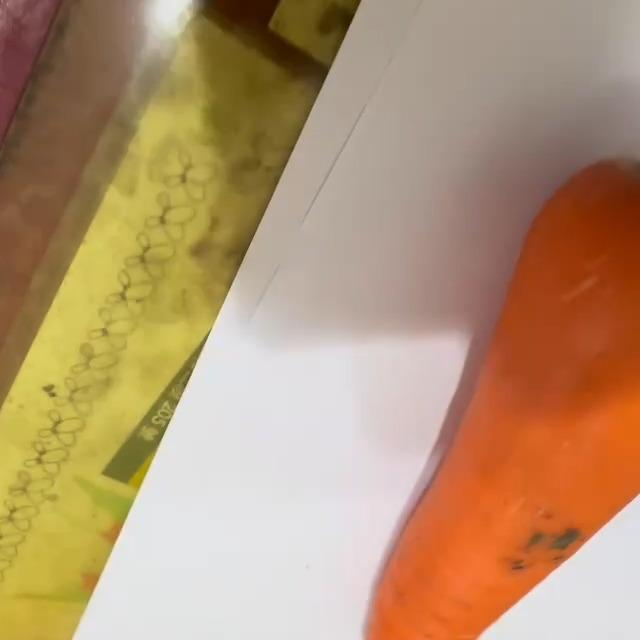carrot: (362, 110, 640, 640)
